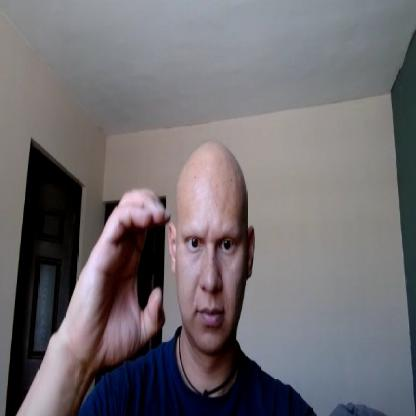C: (76, 189, 172, 374)
